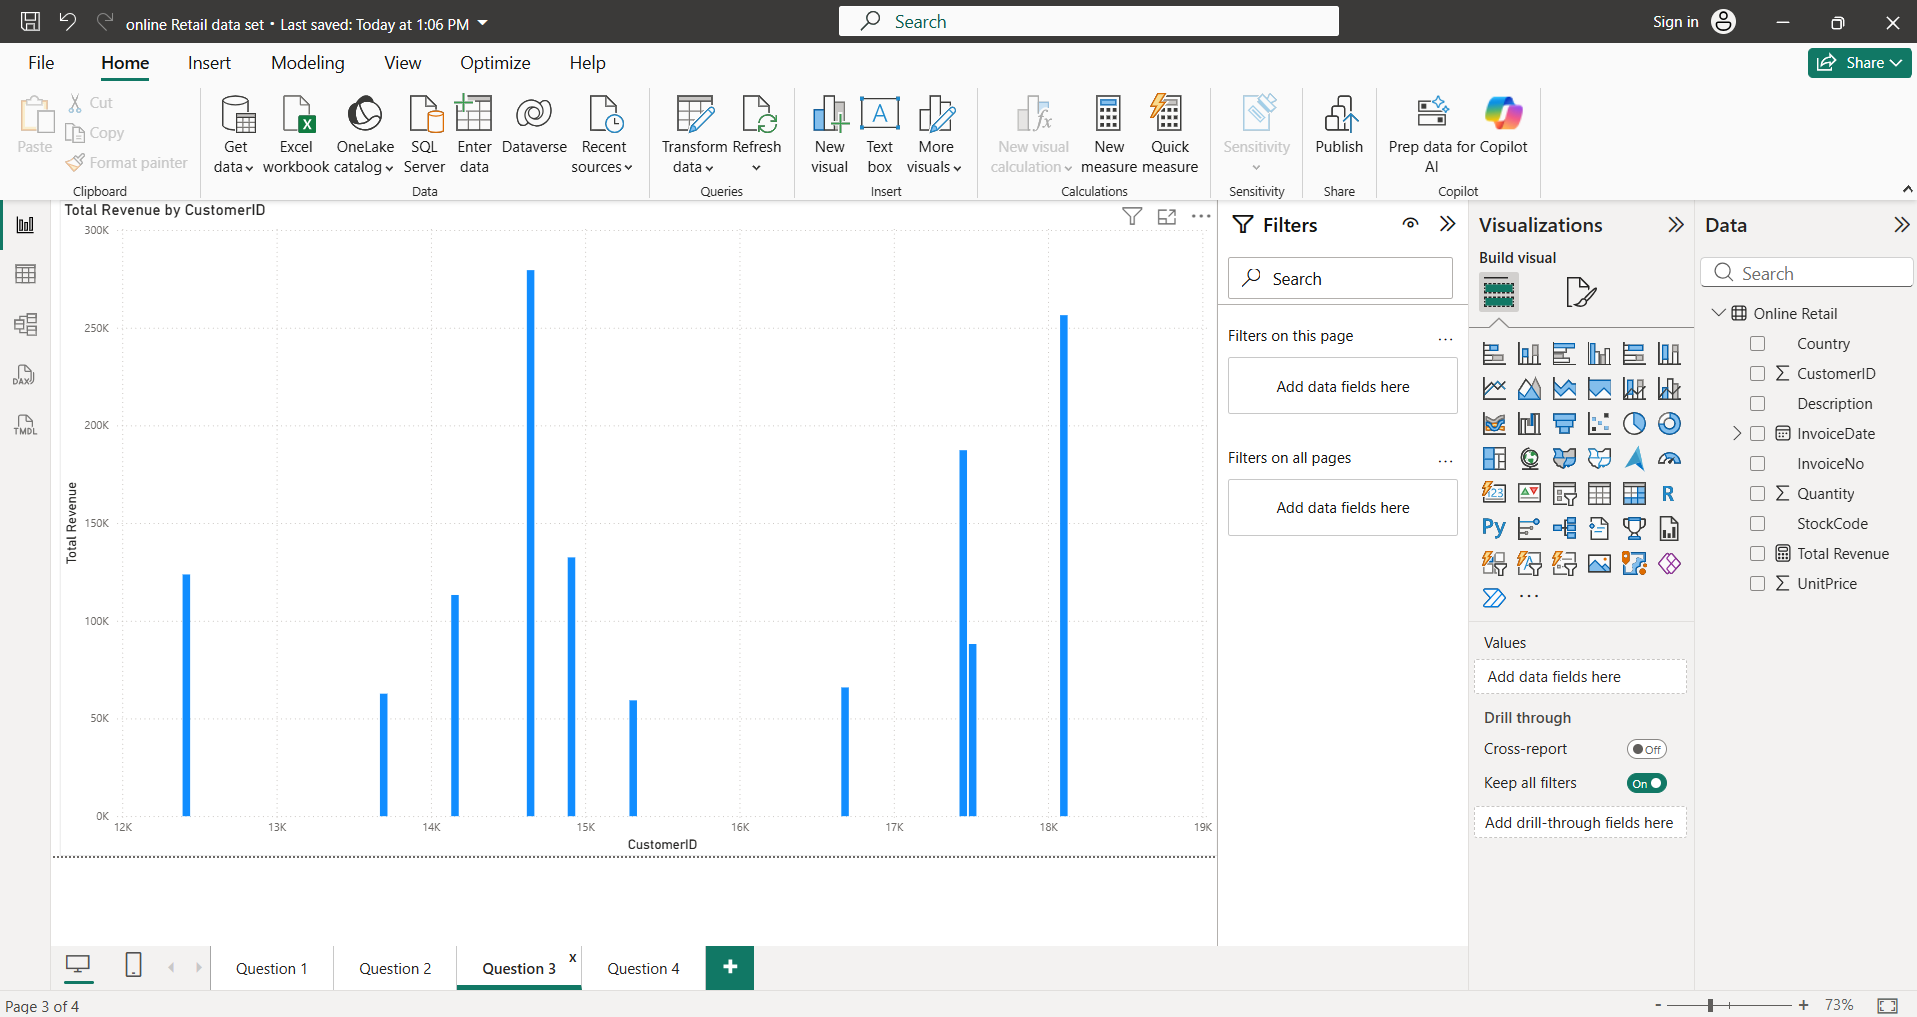

What the dashboard file says about the page in this screenshot:
{"tool":"powerbi","page":{"name":"Question 3 ","canvas":[1280,720],"ordinal":2},"visuals":[{"type":"clusteredColumnChart","fields":{"Category":["Online Retail.CustomerID"],"Y":["Online Retail.Total Revenue"]},"box":[9.6,0,1270.7,720.4],"z":2002}]}

Visuals, with their boxes on the page's 1280x720 design canvas (x1, y1, x2, y2). These are canvas units, not pixel positions in the 1917x1017 screenshot, which may show the page scaled, cropped or inside an application window:
clusteredColumnChart - Online Retail.CustomerID x Online Retail.Total Revenue: [10,0,1280,720]
